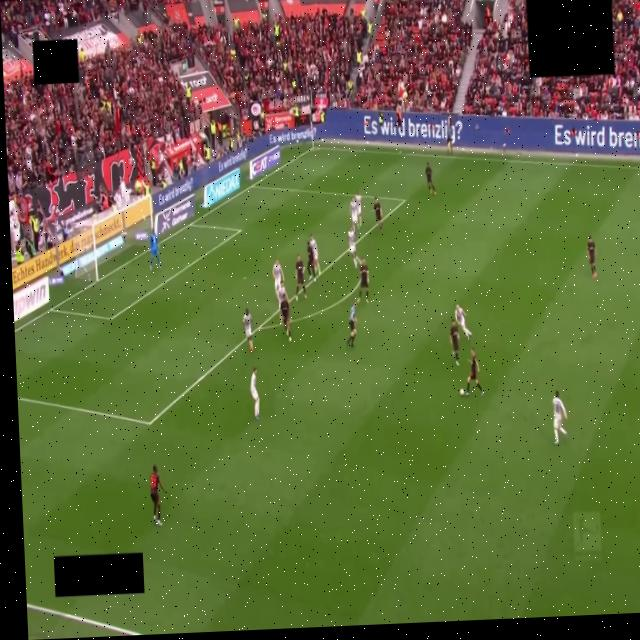ball: (460, 388, 464, 395)
player: (150, 465, 165, 526), (466, 349, 483, 395), (553, 391, 567, 444), (455, 305, 472, 339), (295, 254, 307, 300), (357, 258, 369, 303), (280, 296, 291, 341), (250, 366, 259, 420), (310, 235, 320, 280), (243, 309, 253, 351), (272, 260, 284, 295), (150, 230, 160, 271), (450, 320, 459, 365), (348, 230, 358, 268), (587, 236, 596, 278), (354, 192, 364, 229), (425, 163, 436, 195), (307, 240, 315, 281), (350, 198, 359, 231), (374, 199, 383, 231), (277, 282, 288, 307), (277, 281, 288, 302)
referee: (347, 304, 356, 347)
